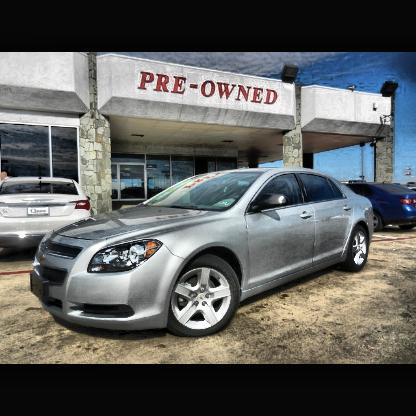Chevrolet Malibu Hybrid Sedan 2010: (29, 168, 377, 339)
